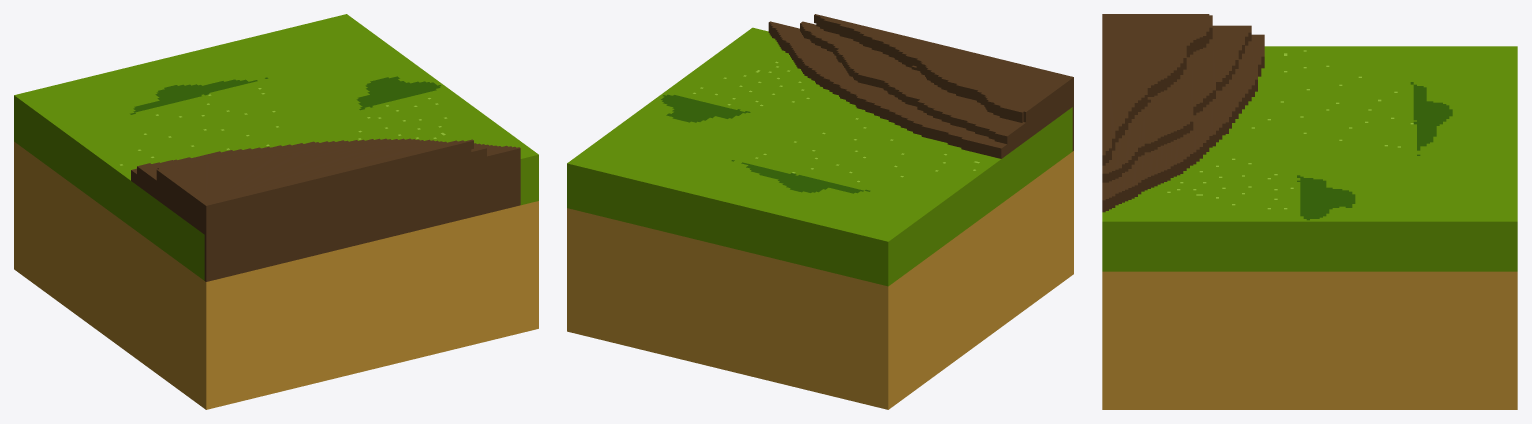
3 views of the same model, side by side, from view 1: azimuth 30°, elevation 25°; view 2: azimuth 150°, elevation 25°; view 3: azimuth 270°, elevation 25° (orthographic). The views are drawn at different scales.
Visible parts, largest first — view 1: 13O; view 2: 13O; view 3: 13O.
Part boxes in pixels (bbox=[...]): 13O: bbox=[14, 14, 538, 409]; 13O: bbox=[567, 14, 1073, 409]; 13O: bbox=[1102, 14, 1517, 409].
Size of the model in its own units: 12.8 by 7.5 by 12.8.
Materials: 1 (1 with a texture image).
